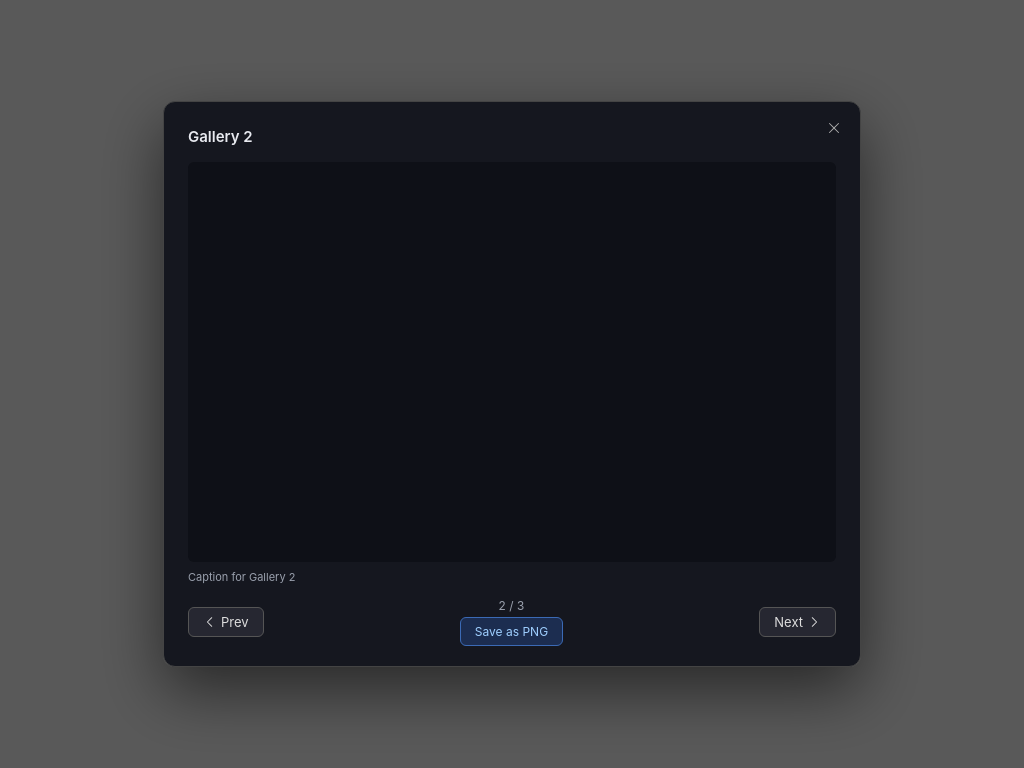
Test: ChartGallery — open / nav / close › Prev button goes back to chart 1
Step 1. Click the button with test id "chart-gallery-prev" → (226, 622), box [188,607,264,637]
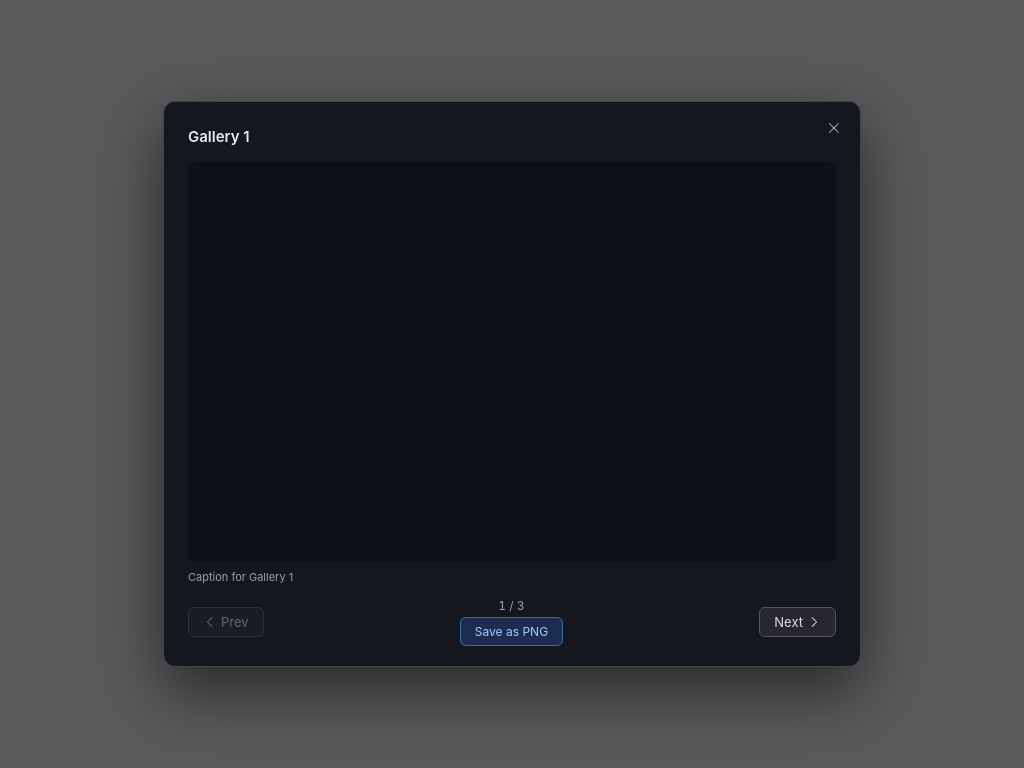
Result: the heading with test id "chart-gallery-title" reads "Gallery 1" at [188,126,250,146]
Result: the text with test id "chart-gallery-counter" reads "1 / 3" at [498,598,525,613]
